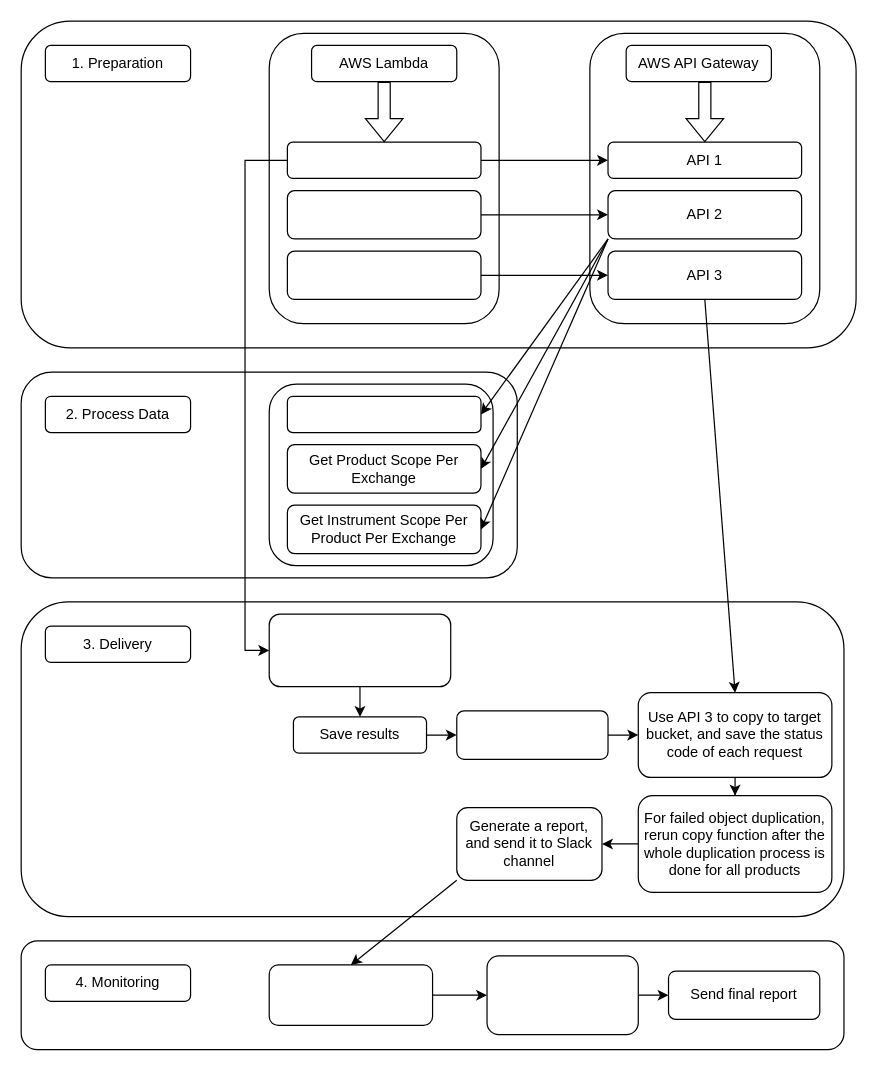
Some shapes in this 877 by 1071 pixel diagram are drawn without their labels. Here are the shapes that lost their labels. From the top down, the centre of each, then its label:
pixel 383 159: 1. Check if an object exist
pixel 383 214: 2. Return list of subfolder names
pixel 383 274: 3. Copy an Object from one bucket to another bucket
pixel 383 414: Get Exchange Scope
pixel 359 650: Check if the whole list of instruments exist on the input date for all products
pixel 532 734: Filter only for those files that exist
pixel 350 994: 1. Every day delivery status report
pixel 562 995: General CSV Files Monitoring for this target bucket
